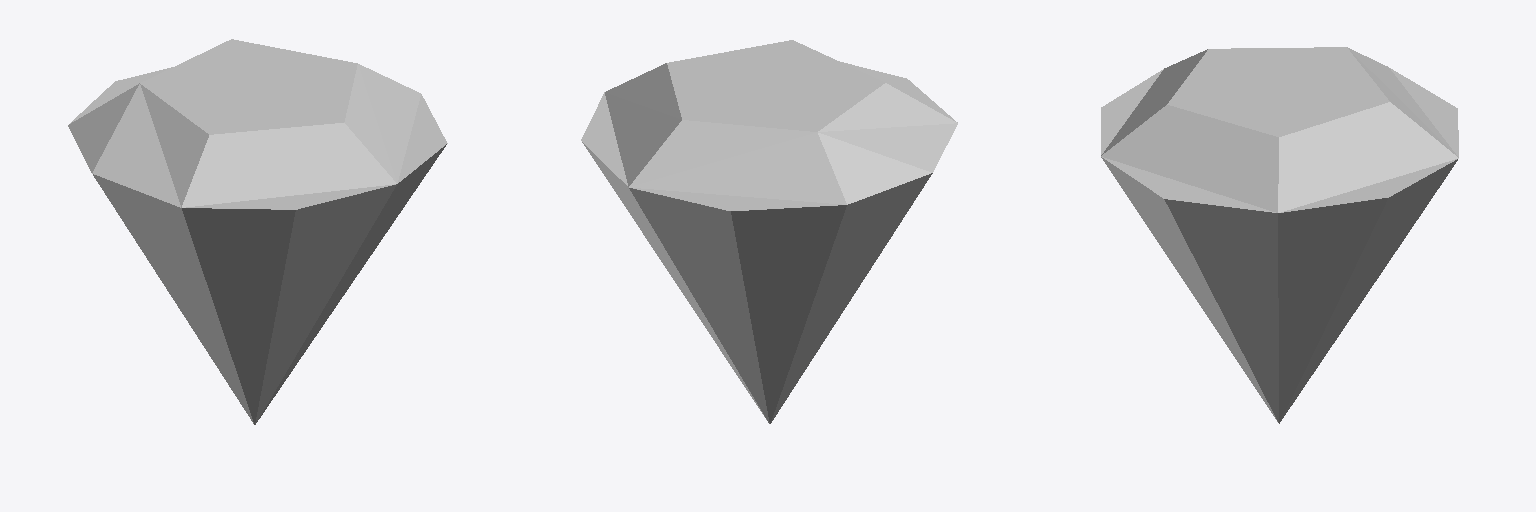
Rendered from diamond.obj.
3 views of the same model, side by side, from view 1: azimuth 30°, elevation 25°; view 2: azimuth 150°, elevation 25°; view 3: azimuth 270°, elevation 25° (orthographic).
Visible parts, largest first — view 1: mesh06; view 2: mesh06; view 3: mesh06.
Boxes of the visible parts, box(x1,y1,x2,y2) form: mesh06: box(68, 39, 447, 424); mesh06: box(581, 40, 957, 423); mesh06: box(1101, 47, 1458, 423).
Size of the model in its own units: 2.53 by 2.49 by 2.39.